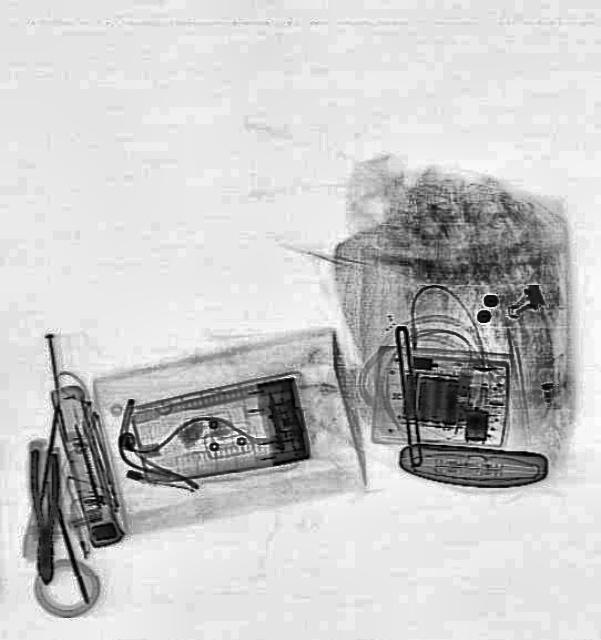Pliers: (28, 449, 61, 583)
